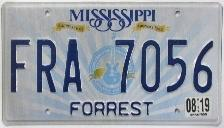0: (139, 37, 161, 94)
5: (164, 38, 190, 94)
6: (191, 38, 216, 94)
7: (114, 38, 137, 95)
A: (61, 37, 84, 94)
F: (7, 36, 33, 95)
R: (34, 37, 59, 95)
